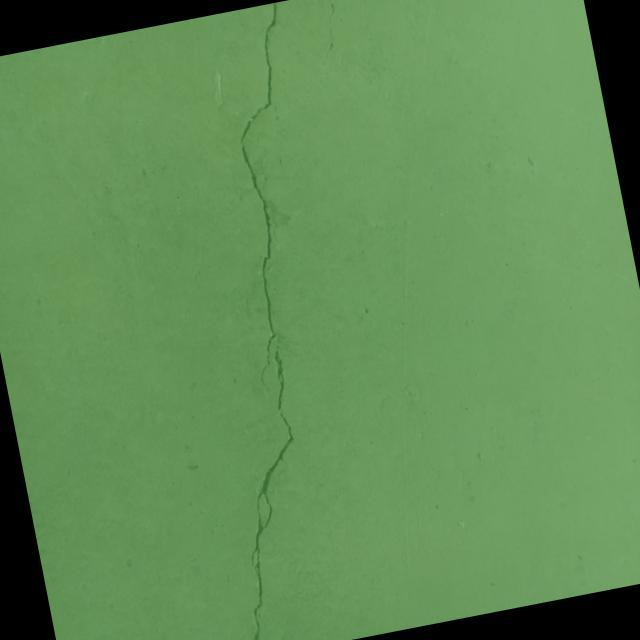crack: (120, 2, 399, 640), (304, 0, 349, 82)
